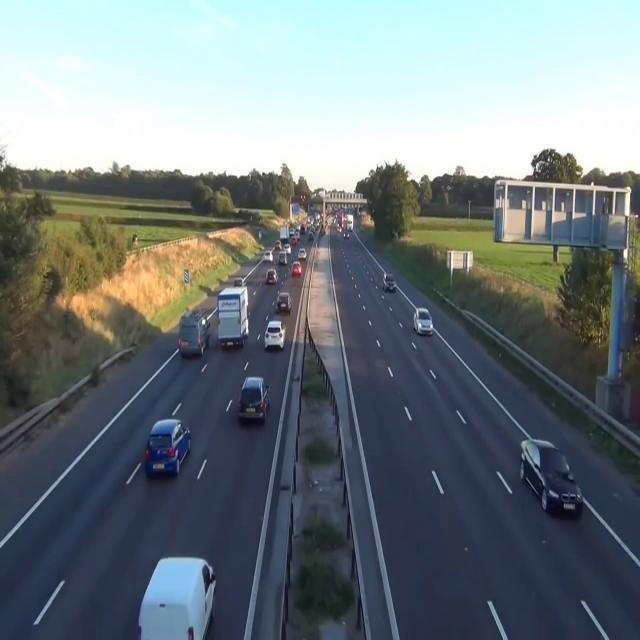belum terisi: (132, 538, 221, 640), (515, 418, 589, 538), (140, 408, 197, 488), (210, 282, 257, 356), (237, 360, 274, 437), (172, 304, 215, 363), (261, 314, 291, 362), (411, 301, 437, 344), (378, 267, 399, 299), (277, 286, 295, 314)
